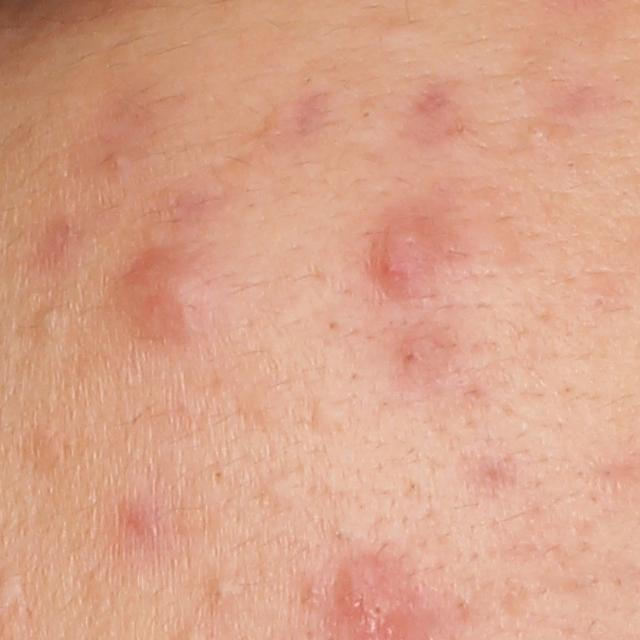comedo: (209, 579, 245, 603), (528, 124, 551, 145), (593, 292, 609, 311)
papule: (121, 256, 215, 339), (377, 216, 439, 289)
